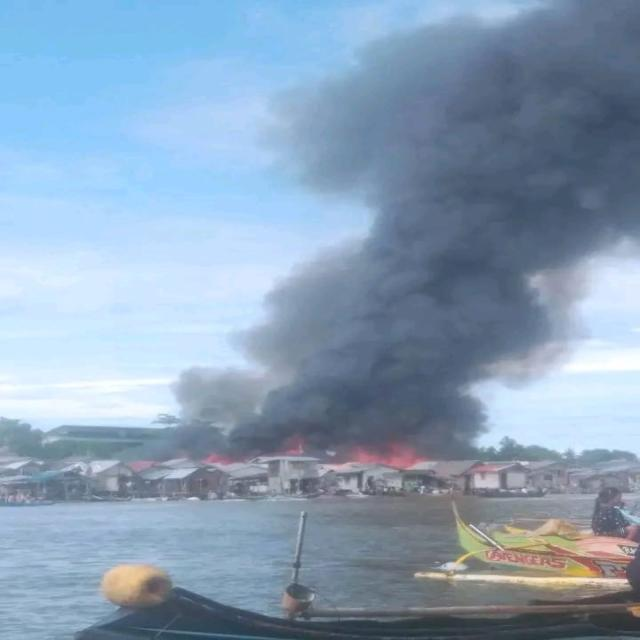Fire: (363, 436, 446, 471)
Smoke: (359, 8, 640, 324), (265, 284, 569, 428), (199, 364, 306, 445)
